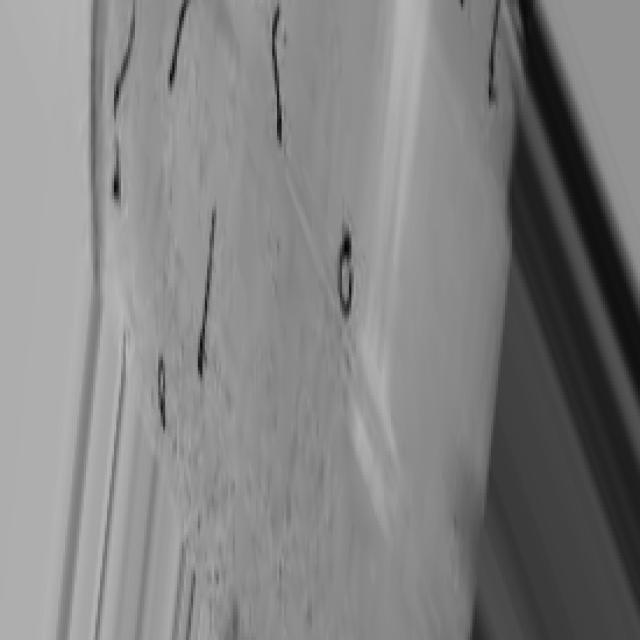larvas: (197, 206, 220, 373), (110, 8, 140, 109), (166, 0, 193, 86), (337, 232, 356, 318), (487, 0, 501, 100), (274, 6, 283, 144), (154, 357, 167, 422), (113, 135, 123, 201)
